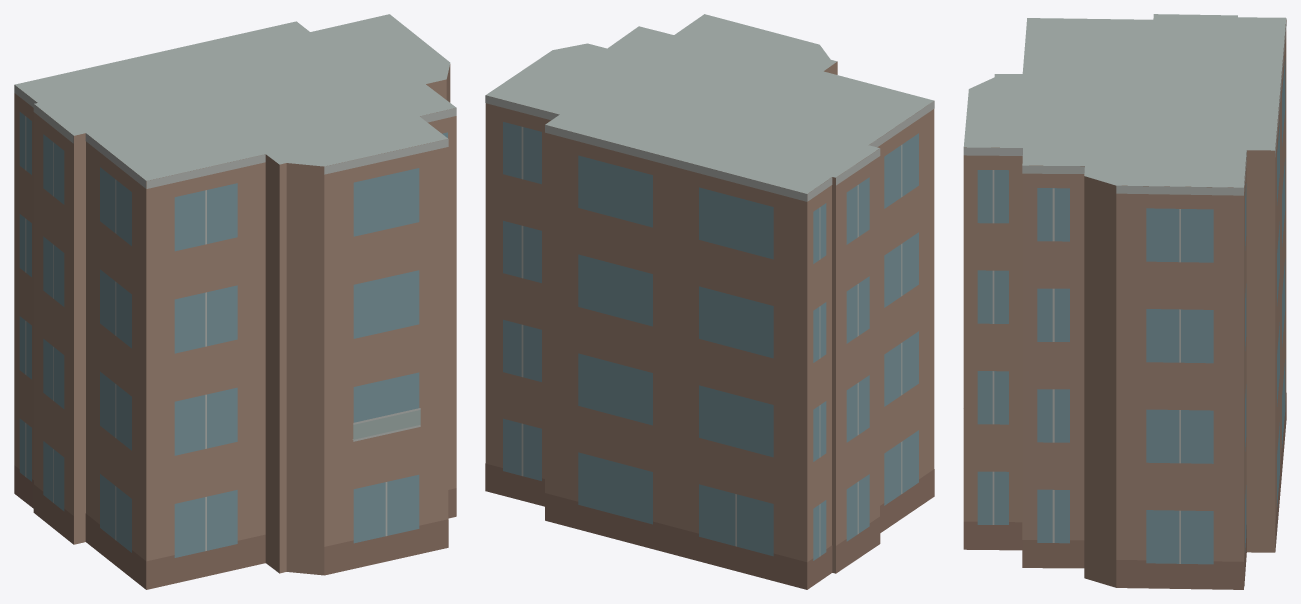
Rendered from survey-upis-32617815.glb.
3 views of the same model, side by side, from view 1: azimuth 30°, elevation 25°; view 2: azimuth 150°, elevation 25°; view 3: azimuth 270°, elevation 25° (orthographic). The views are drawn at different scales.
Parts seen in each view (by area): view 1: survey-upis-32617815.tmp; view 2: survey-upis-32617815.tmp; view 3: survey-upis-32617815.tmp.
Part boxes in pixels (box(x1,y1,x2,y2)): survey-upis-32617815.tmp: box(14, 14, 456, 589); survey-upis-32617815.tmp: box(485, 14, 934, 589); survey-upis-32617815.tmp: box(963, 14, 1286, 589).
Bounding box in the file's own units: 11.3 × 12.2 × 8.88.
